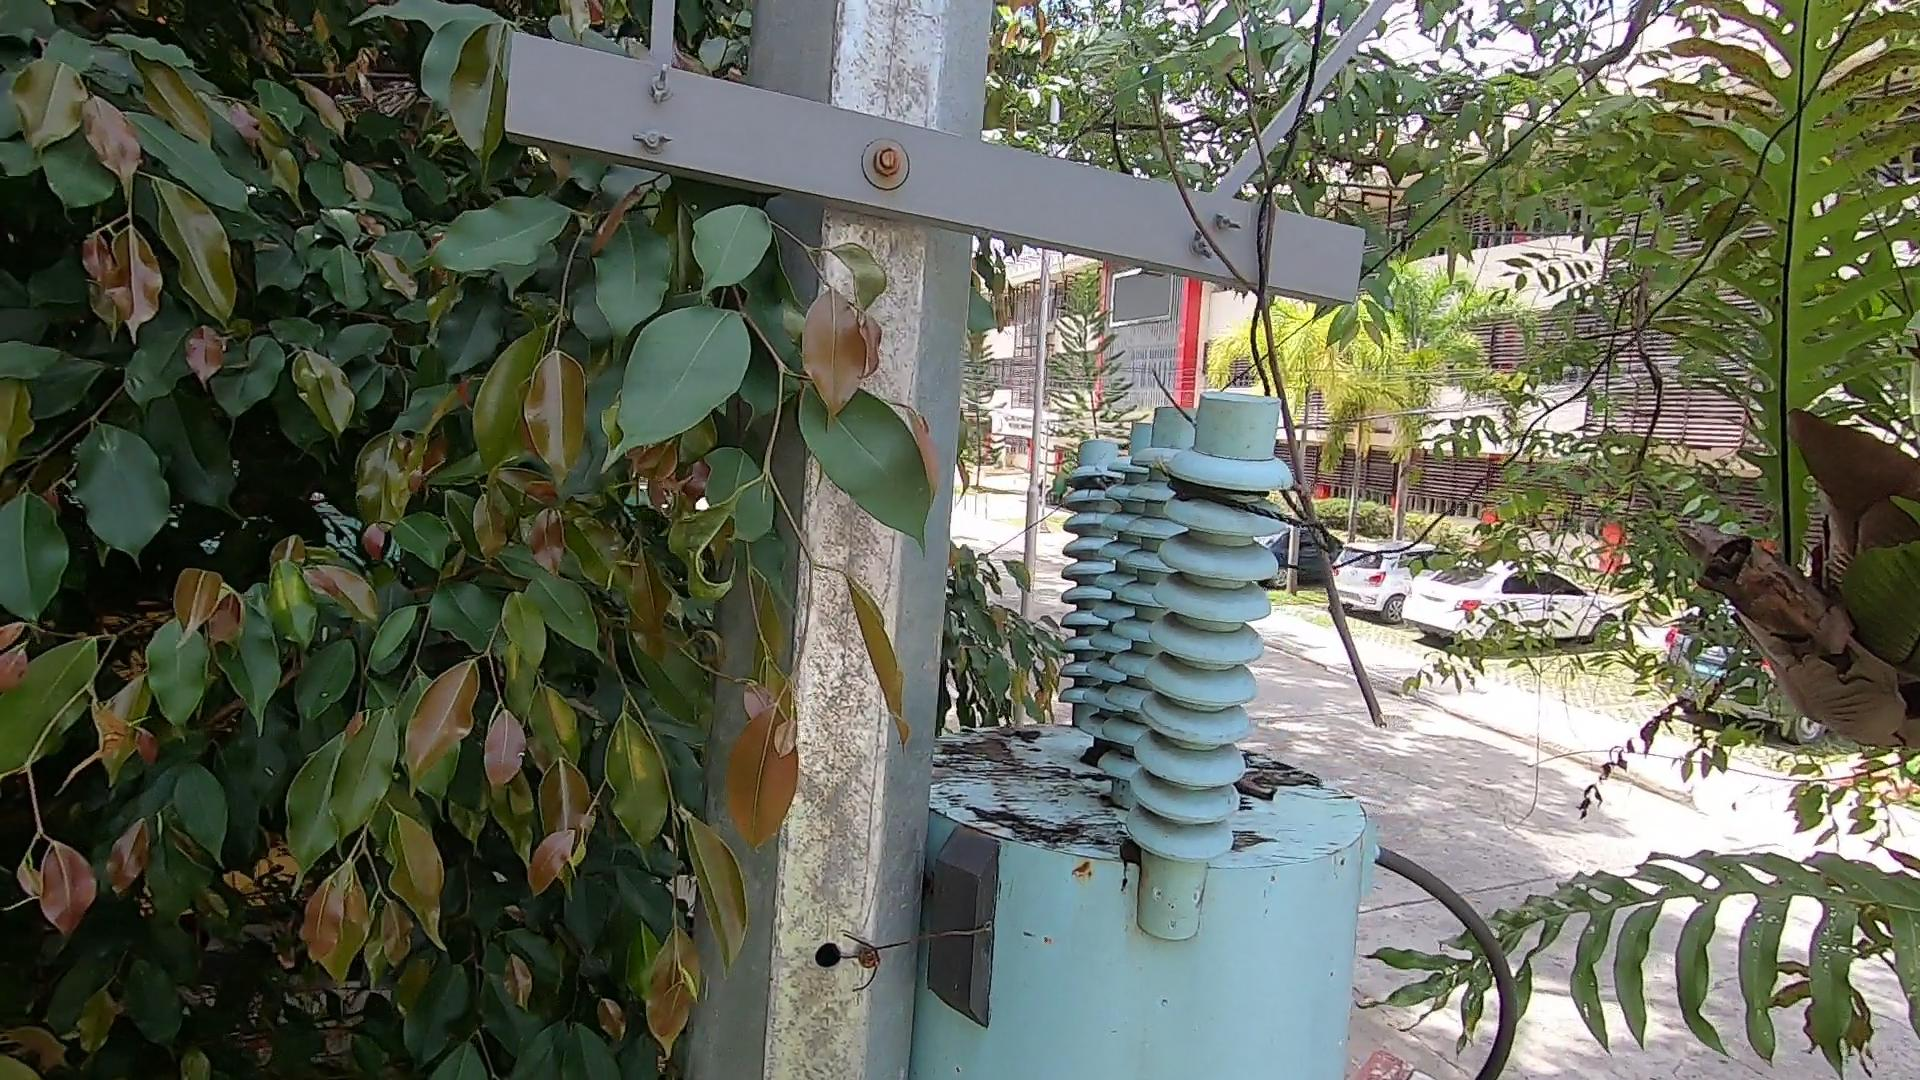leaf: (1236, 760, 1280, 812)
tree branch: (1102, 15, 1410, 756)
